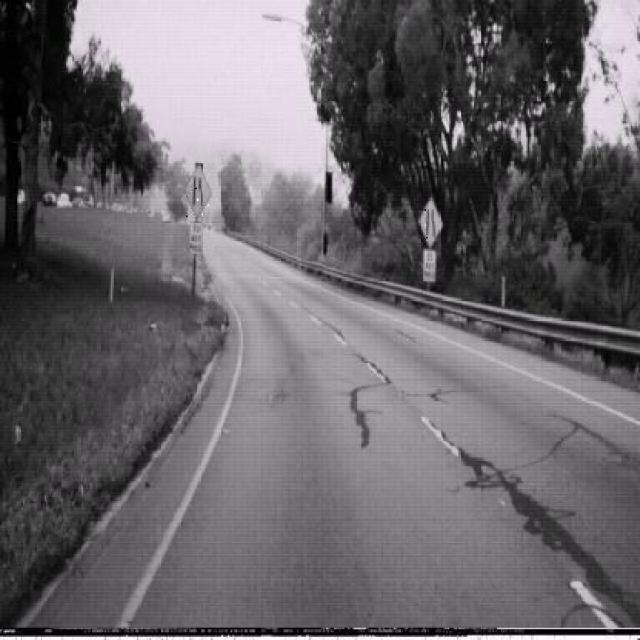laneEnds: (183, 162, 212, 218), (417, 195, 443, 248)
